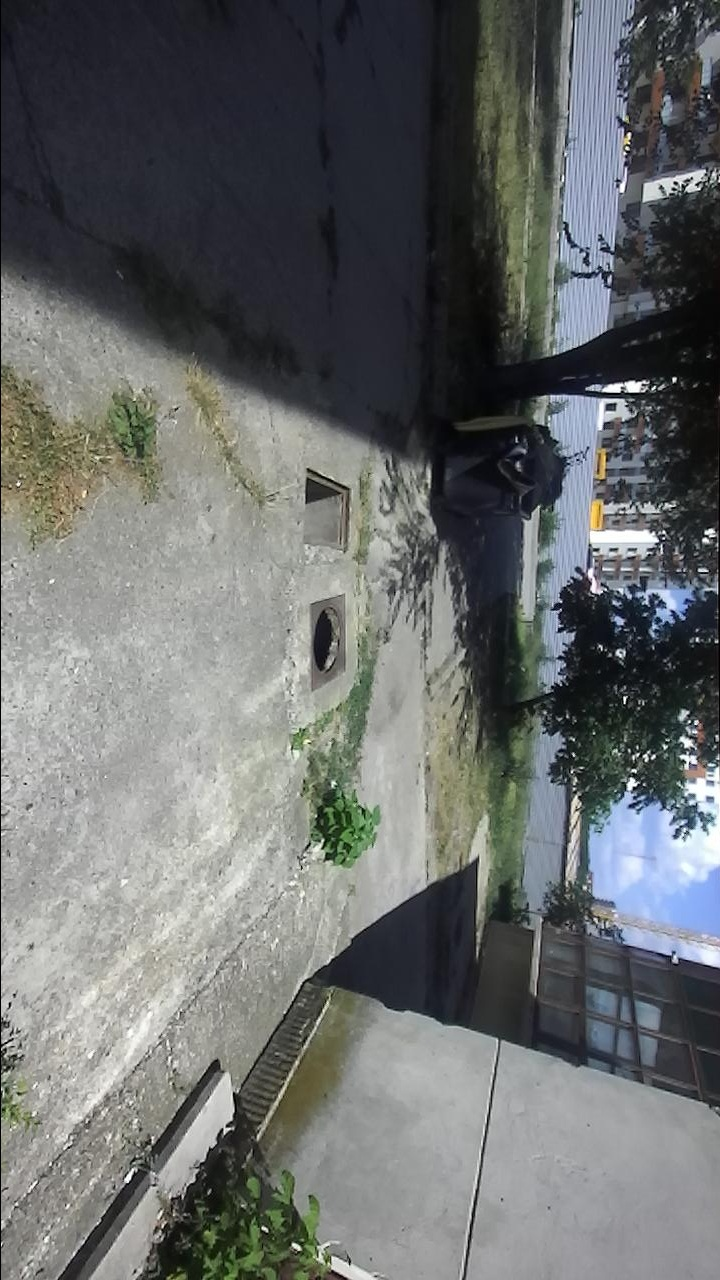drain: (300, 463, 351, 556), (312, 601, 346, 678)
